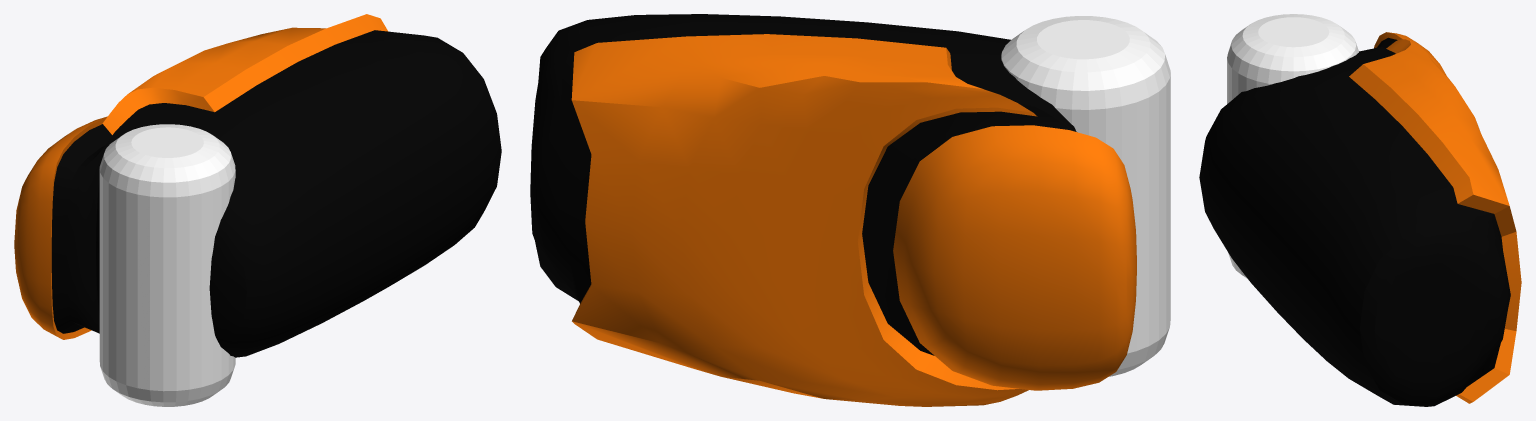
The model's file is new_simHand_id51.fbx.
3 renders of one model, left to right at view 1: azimuth 30°, elevation 25°; view 2: azimuth 150°, elevation 25°; view 3: azimuth 270°, elevation 25°, orthographic. The views are drawn at different scales.
Visible parts, largest first — view 1: Cube.015, Cylinder.009; view 2: Cube.015, Cylinder.009; view 3: Cube.015, Cylinder.009.
Boxes of the visible parts, <box> form: Cube.015: <box>14,14,501,357</box>; Cylinder.009: <box>99,124,235,406</box>; Cube.015: <box>530,14,1136,406</box>; Cylinder.009: <box>1001,16,1170,376</box>; Cube.015: <box>1199,32,1521,406</box>; Cylinder.009: <box>1227,14,1358,278</box>.
Bounding box in the file's own units: 60.16 × 31.96 × 36.82.
